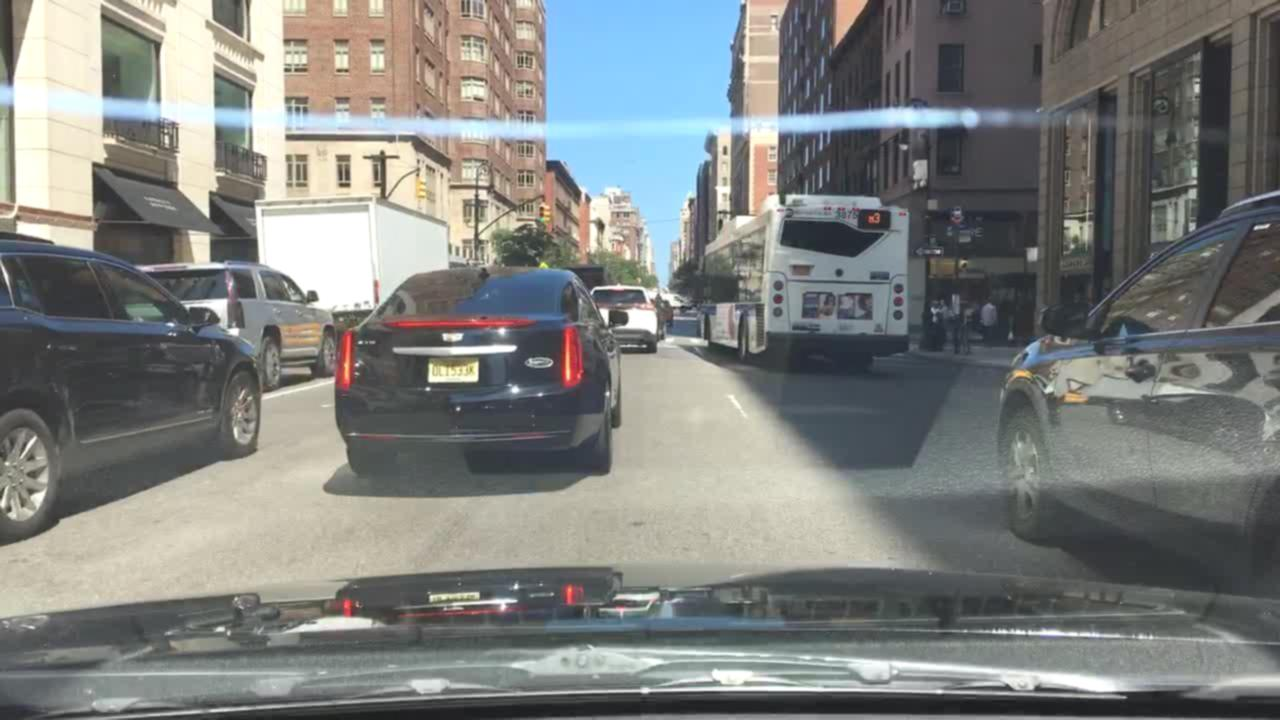cadillac: (438, 328, 466, 347)
